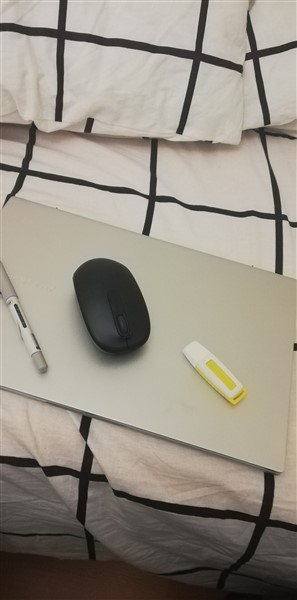flash disk: (183, 339, 254, 409)
laptop: (1, 181, 288, 479)
mouse: (72, 251, 154, 357)
pilot kalem: (1, 253, 52, 377)
